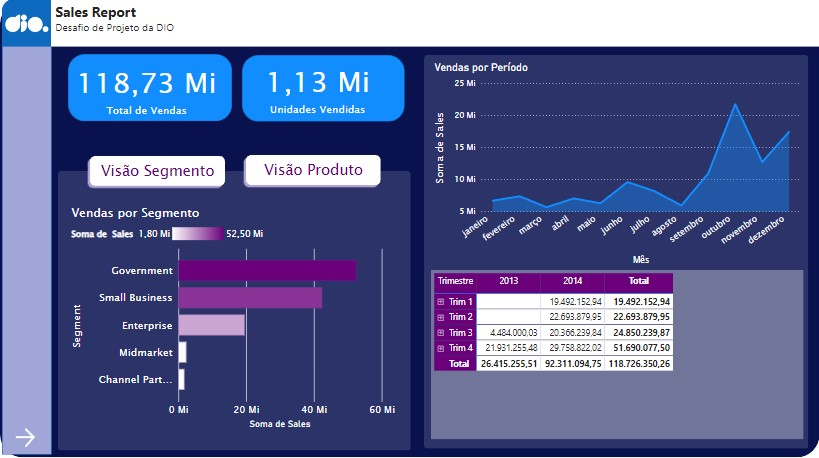

Layout of this report page (visuals, bound fields, positions):
{"tool":"powerbi","page":{"name":"Página 1","canvas":[1280,720],"ordinal":0},"visuals":[{"type":"shape","box":[7.8,12.1,1270,707.2],"z":0,"group":"g1"},{"type":"group","id":"g1","title":"Layout","box":[7.8,8.9,1272.5,710.4],"z":0},{"type":"shape","box":[10.3,9.5,77.2,706.3],"z":1000,"group":"g1"},{"type":"actionButton","title":"Botão - Next","box":[25.9,669,48.8,39.6],"z":1000},{"type":"shape","box":[10.3,9.5,77.2,73.8],"z":2000,"group":"g1"},{"type":"image","title":"logo_dio","box":[10.3,14.5,77.2,62.1],"z":3000,"group":"g1"},{"type":"shape","box":[87.2,8.9,1193.1,74.1],"z":4000,"group":"g1"},{"type":"textbox","title":"Título do Relatório","box":[88.3,9.3,365.7,69.7],"z":4000},{"type":"shape","box":[665.6,95.6,595.6,610],"z":5000},{"type":"shape","box":[383.3,95.6,252.2,103.3],"z":6000},{"type":"pivotTable","title":"TabelaVendas","fields":{"Rows":["financials.Date.Variation.Hierarquia de datas.Trimestre","financials.Date.Variation.Hierarquia de datas.Mês"],"Values":["Sum(financials. Sales)"],"Columns":["financials.Date.Variation.Hierarquia de datas.Ano"]},"box":[675.6,430,576.7,262.2],"z":6500},{"type":"areaChart","title":"Vendas por Período","fields":{"Category":["financials.Date.Variation.Hierarquia de datas.Mês"],"Y":["Sum(financials. Sales)"]},"box":[675.6,105.6,576.7,324.4],"z":7000},{"type":"card","fields":{"Values":["Sum(financials. Sales)"]},"box":[102,104,265,90],"z":8000},{"type":"card","fields":{"Values":["Sum(financials.Units Sold)"]},"box":[375.7,98.6,250,97.1],"z":9000},{"type":"shape","box":[97.8,275.6,546.7,433.3],"z":10000},{"type":"clusteredBarChart","title":"Vendas por Segmento","fields":{"Category":["financials.Segment"],"Y":["Sum(financials. Sales)"]},"box":[113.3,326.7,512.2,354.4],"z":10500},{"type":"actionButton","box":[140.6,245.7,221.4,58.6],"z":11000},{"type":"actionButton","box":[383.3,245.6,221.1,58.9],"z":12000},{"type":"shape","box":[112.5,94.6,254.4,104.4],"z":14500,"group":"g1"}]}

Visuals, with their boxes in screenshot pixels (x1, y1, x2, y2), scaled from the page's 1280x720 canvas onto the 819x458 screenshot:
shape: {"left": 5, "top": 8, "right": 818, "bottom": 457}
"Layout" group: {"left": 5, "top": 6, "right": 818, "bottom": 457}
shape: {"left": 7, "top": 6, "right": 56, "bottom": 455}
"Botão - Next" actionButton: {"left": 17, "top": 426, "right": 48, "bottom": 451}
shape: {"left": 7, "top": 6, "right": 56, "bottom": 53}
"logo_dio" image: {"left": 7, "top": 9, "right": 56, "bottom": 49}
shape: {"left": 56, "top": 6, "right": 818, "bottom": 53}
"Título do Relatório" textbox: {"left": 56, "top": 6, "right": 290, "bottom": 50}
shape: {"left": 426, "top": 61, "right": 807, "bottom": 449}
shape: {"left": 245, "top": 61, "right": 407, "bottom": 127}
"TabelaVendas" pivotTable: {"left": 432, "top": 274, "right": 801, "bottom": 440}
"Vendas por Período" areaChart: {"left": 432, "top": 67, "right": 801, "bottom": 274}
card - Sum(financials. Sales): {"left": 65, "top": 66, "right": 235, "bottom": 123}
card - Sum(financials.Units Sold): {"left": 240, "top": 63, "right": 400, "bottom": 124}
shape: {"left": 63, "top": 175, "right": 412, "bottom": 451}
"Vendas por Segmento" clusteredBarChart: {"left": 72, "top": 208, "right": 400, "bottom": 433}
actionButton: {"left": 90, "top": 156, "right": 232, "bottom": 194}
actionButton: {"left": 245, "top": 156, "right": 387, "bottom": 194}
shape: {"left": 72, "top": 60, "right": 235, "bottom": 127}
